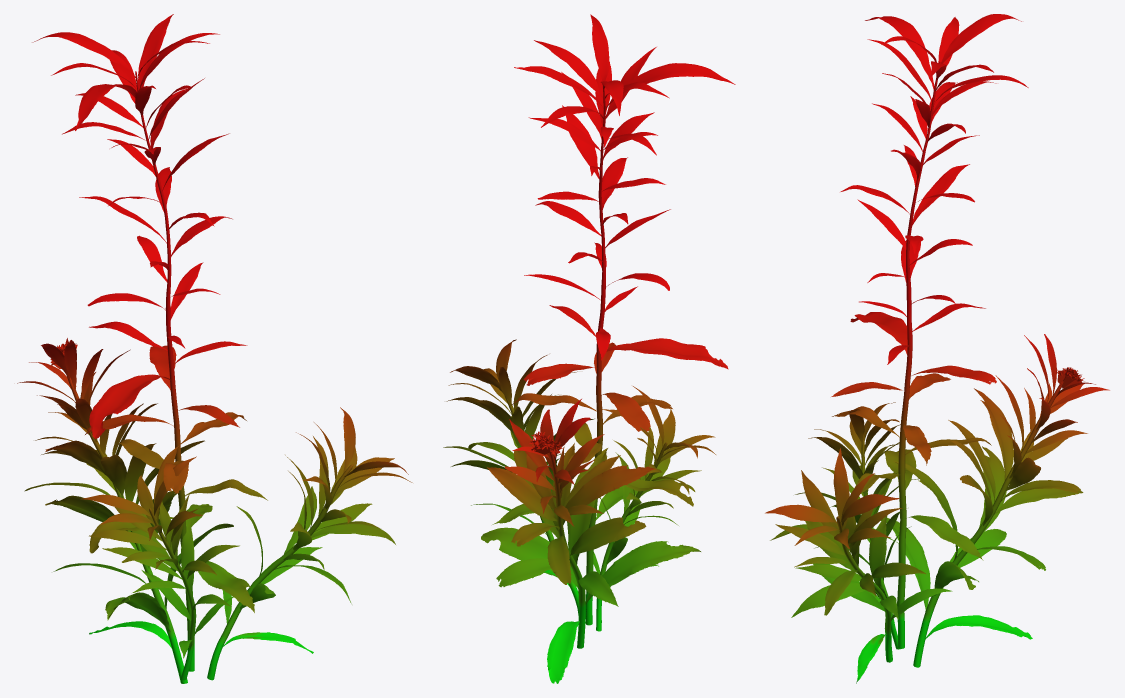
The model's file is Goldenrods_LOD0_Var3.fbx.
3 renders of one model, left to right at view 1: azimuth 30°, elevation 25°; view 2: azimuth 150°, elevation 25°; view 3: azimuth 270°, elevation 25°, orthographic. The views are drawn at different scales.
Parts seen in each view (by area): view 1: _503w_Var3_LOD0; view 2: _503w_Var3_LOD0; view 3: _503w_Var3_LOD0.
Boxes of the visible parts, x1,y1,x2,y2 form: _503w_Var3_LOD0: (17,14,412,683); _503w_Var3_LOD0: (443,14,735,683); _503w_Var3_LOD0: (765,14,1109,683).
Bounding box in the file's own units: 63.94 × 128 × 63.94.
